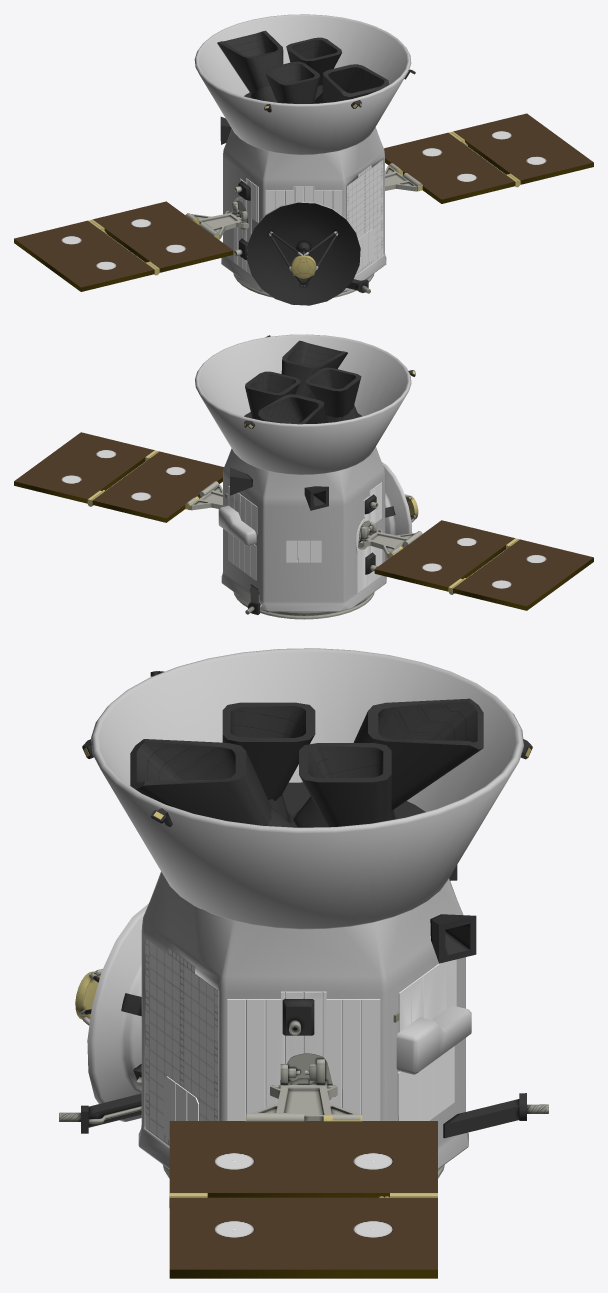
File: tess.dae
3 renders of one model, top to bottom at view 1: azimuth 30°, elevation 25°; view 2: azimuth 150°, elevation 25°; view 3: azimuth 270°, elevation 25°, orthographic. The views are drawn at different scales.
Parts seen in each view (by area): view 1: instruments, BUS, reflectors; view 2: BUS, instruments, reflectors; view 3: BUS, instruments, reflectors.
Part boxes in pixels (box(x1,y1,x2,y2)): instruments: box(14, 30, 593, 305); BUS: box(194, 14, 411, 291); reflectors: box(233, 178, 373, 275); BUS: box(195, 334, 412, 611); instruments: box(14, 335, 593, 619); reflectors: box(228, 482, 382, 593); BUS: box(87, 648, 523, 1168); instruments: box(59, 671, 548, 1278); reflectors: box(164, 959, 456, 1140).
Size of the model in its own units: 7.39 by 3.06 by 3.1.
5 materials, 1 textured.
